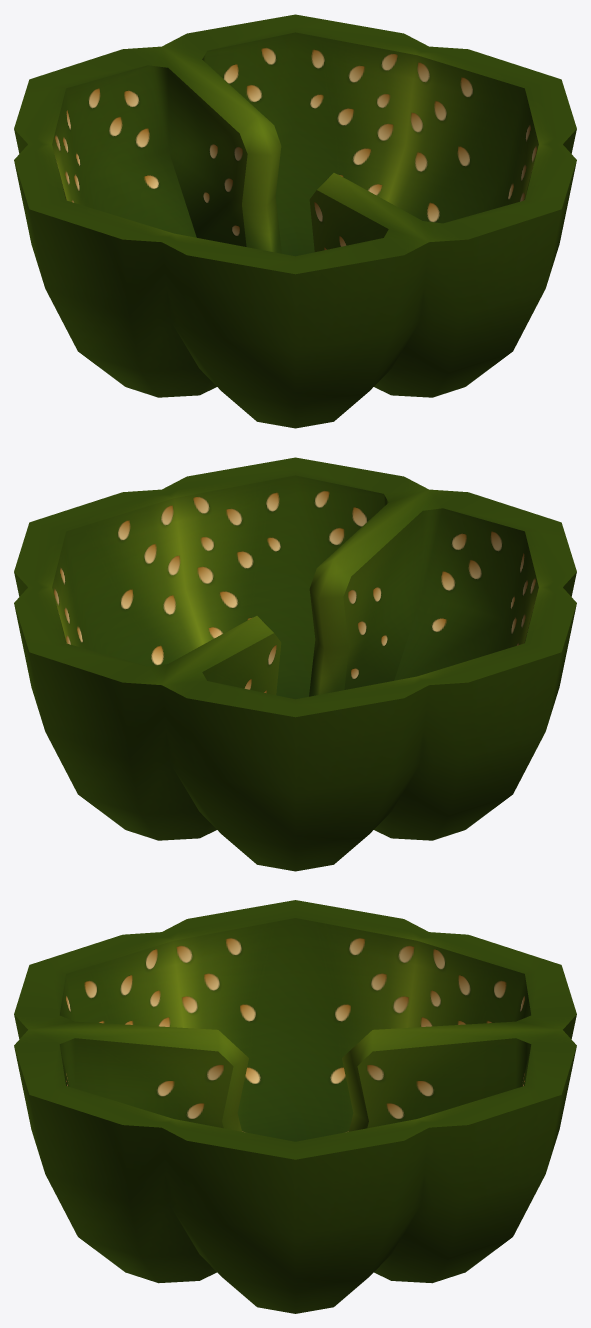
The model's file is Pepper_G_Half_Bottom.fbx.
The picture shows the model from 3 angles, top to bottom: view 1: azimuth 30°, elevation 25°; view 2: azimuth 150°, elevation 25°; view 3: azimuth 270°, elevation 25°; orthographic projection.
Parts seen in each view (by area): view 1: Pepper_G_Half_Botton; view 2: Pepper_G_Half_Botton; view 3: Pepper_G_Half_Botton.
Part boxes in pixels (box(x1,y1,x2,y2)): Pepper_G_Half_Botton: box(14, 14, 576, 428); Pepper_G_Half_Botton: box(14, 457, 576, 871); Pepper_G_Half_Botton: box(14, 900, 576, 1313).
Size of the model in its own units: 2.3 by 0.8828 by 2.11.
